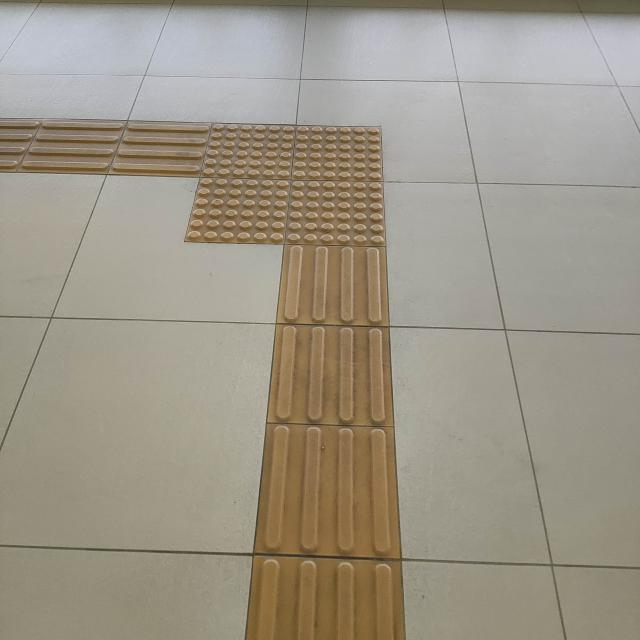kiri: (48, 87, 440, 324)
